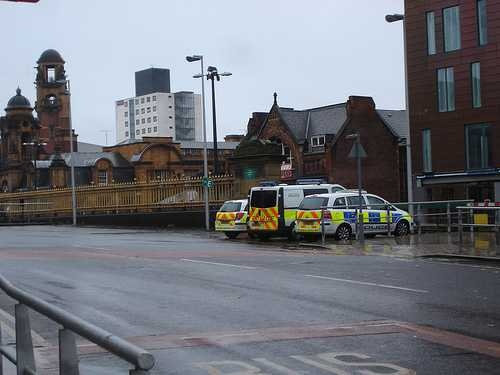Ambulance: (294, 188, 420, 252), (250, 177, 311, 244), (210, 189, 262, 248)
